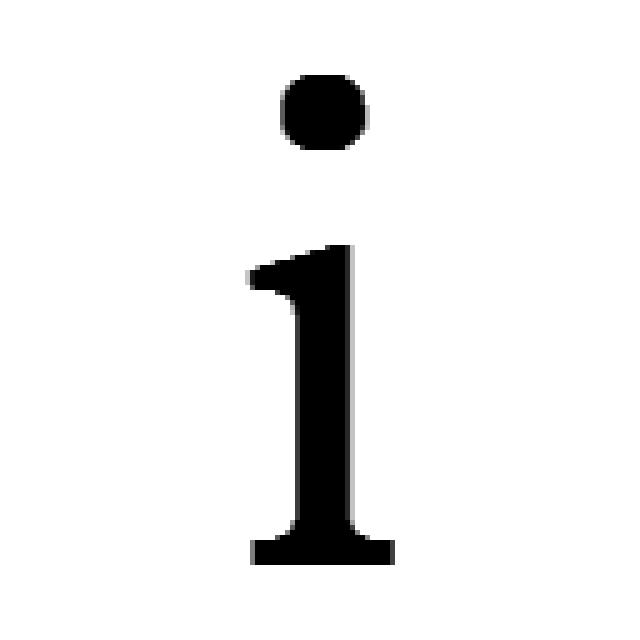I: (205, 69, 416, 576)
